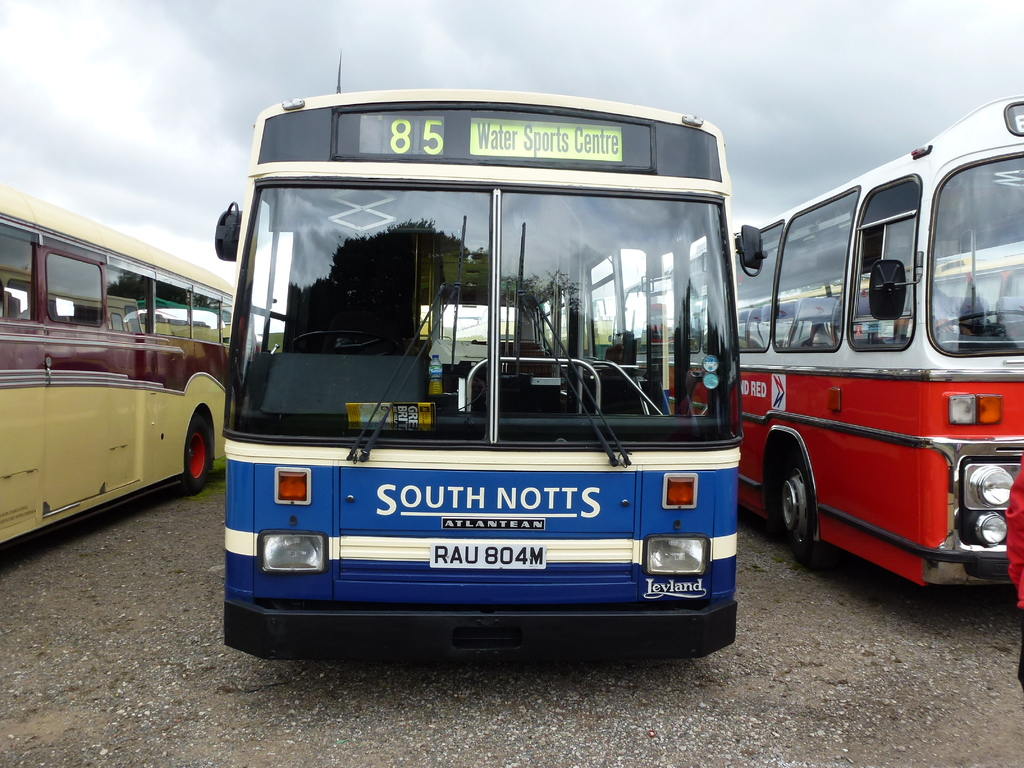Bus: (211, 52, 767, 666), (640, 99, 1017, 582), (0, 185, 256, 545)
